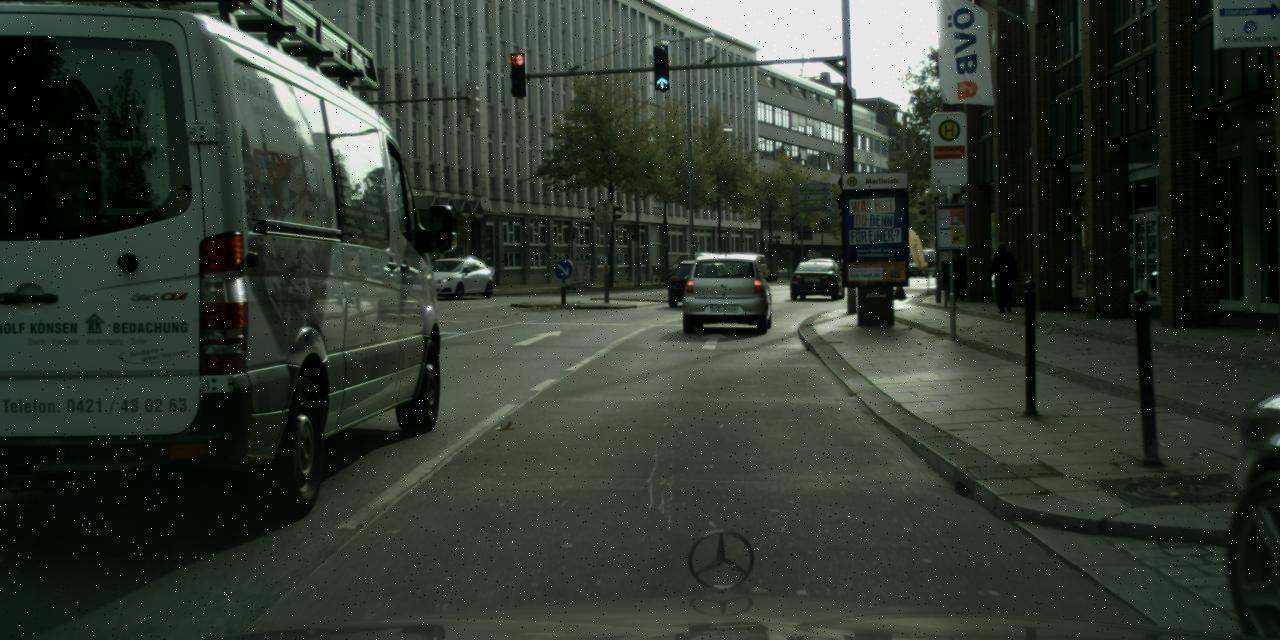ped: (989, 242, 1018, 312)
